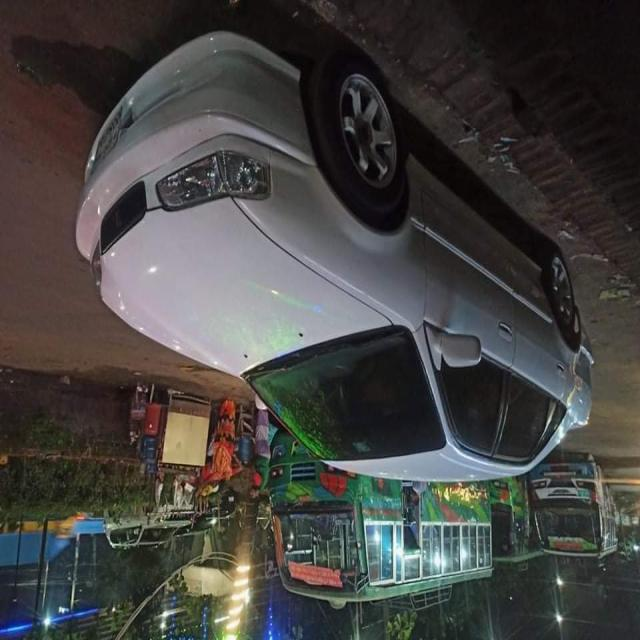white: (86, 26, 584, 466)
